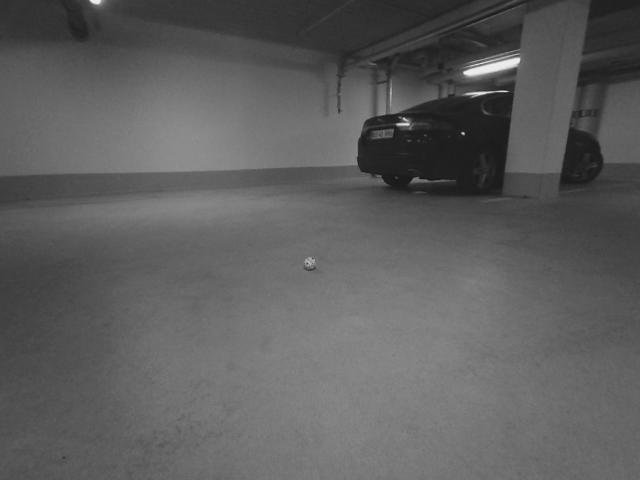dogtoy: (296, 249, 324, 275)
